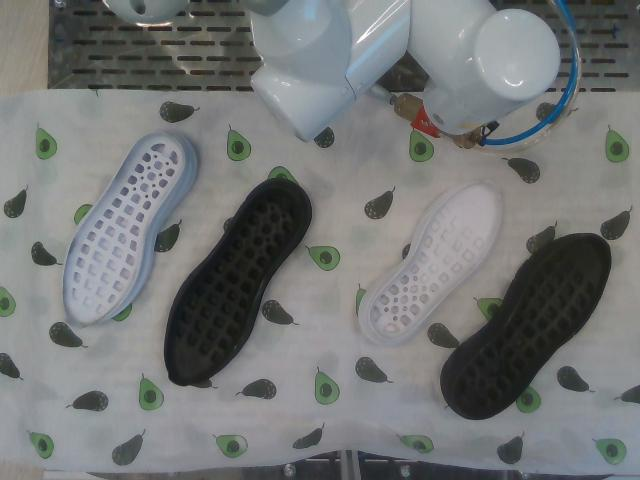shoes: (454, 235, 609, 416), (165, 188, 302, 384), (63, 132, 183, 328), (370, 182, 501, 339)
